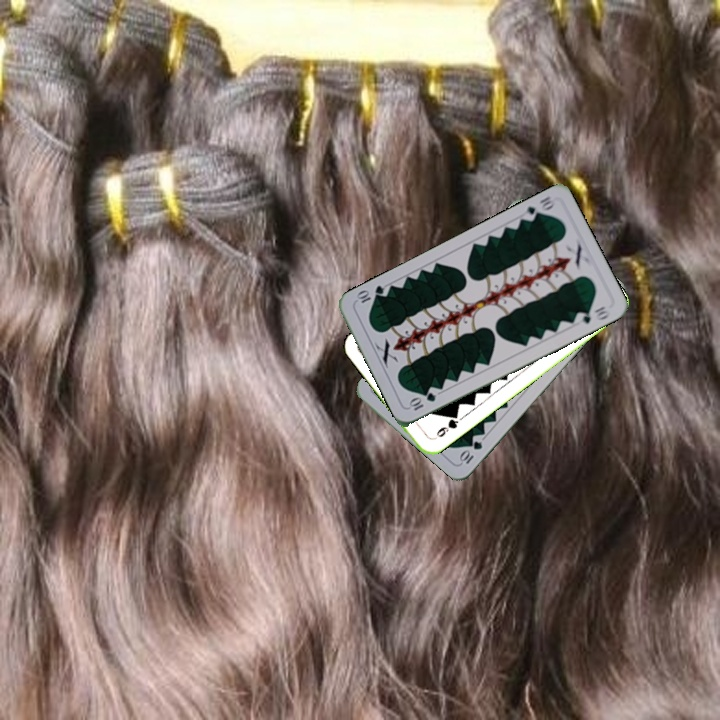G10: (522, 192, 558, 224), (456, 437, 485, 467), (405, 388, 438, 413)
G9: (432, 410, 461, 440)
